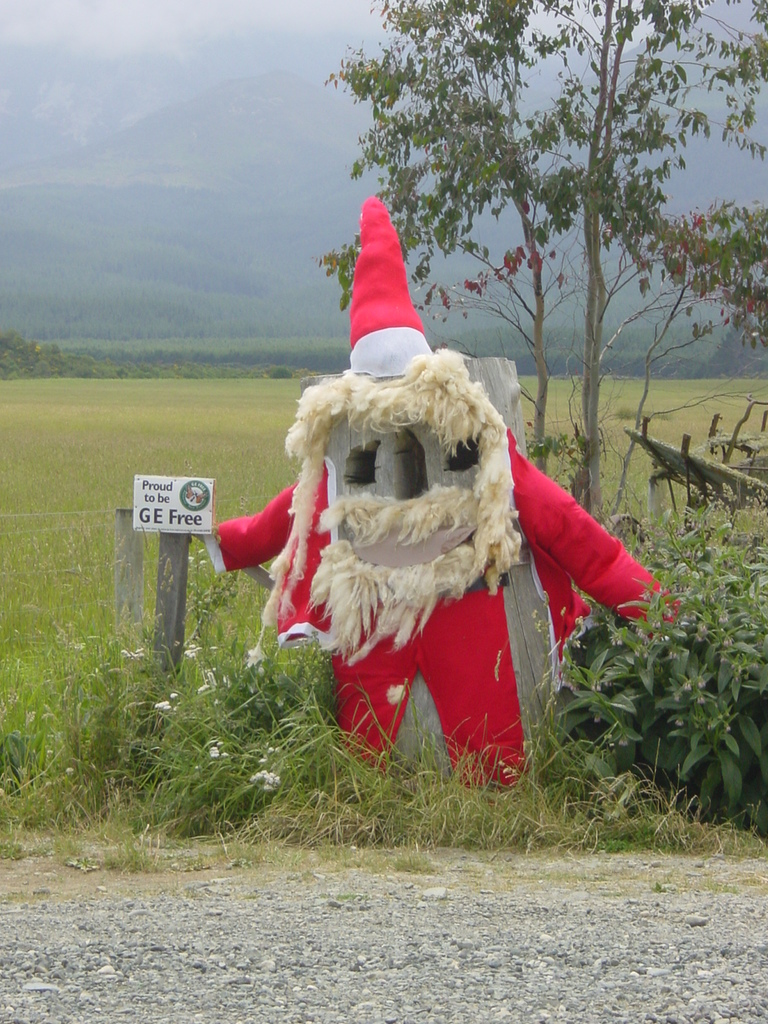Tree: (310, 0, 767, 550)
